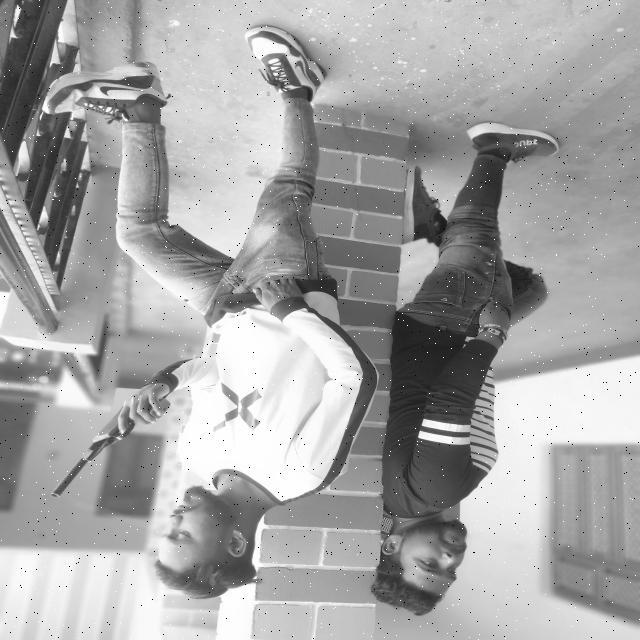gun: (37, 375, 191, 503)
